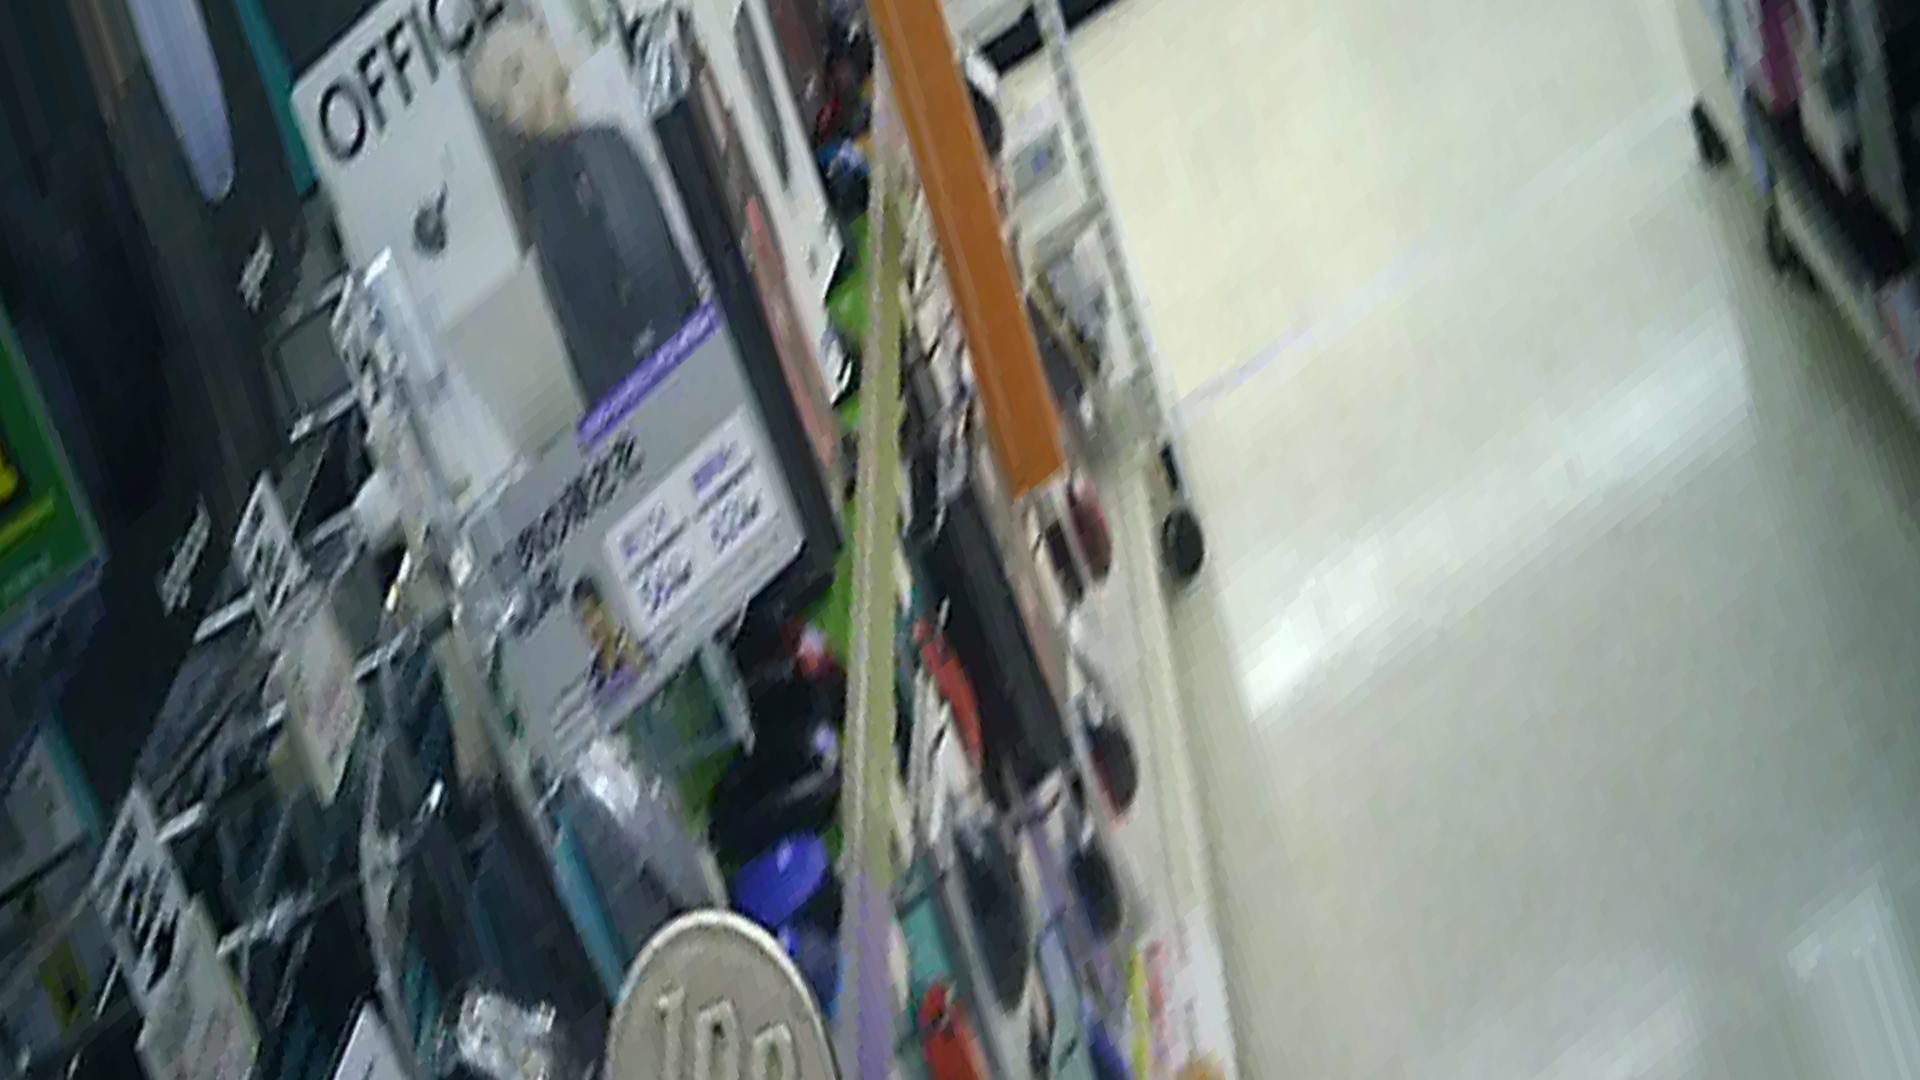100 Yen: (583, 911, 856, 1079)
